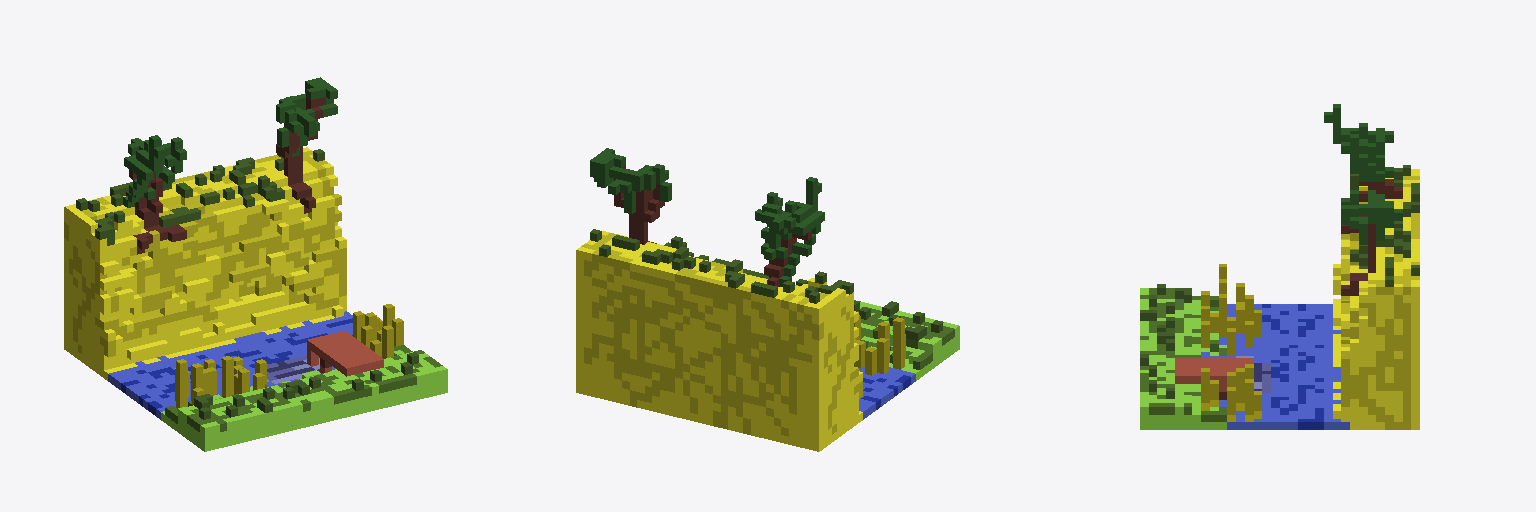
3 renders of one model, left to right at view 1: azimuth 30°, elevation 25°; view 2: azimuth 150°, elevation 25°; view 3: azimuth 270°, elevation 25°, orthographic.
Visible parts, largest first — view 1: object 1; view 2: object 1; view 3: object 1.
Part boxes in pixels (bbox=[...]): object 1: bbox=[64, 77, 447, 451]; object 1: bbox=[576, 148, 959, 451]; object 1: bbox=[1140, 104, 1419, 429].
Size of the model in its own units: 3.2 by 2.9 by 3.2.
1 materials, 1 textured.